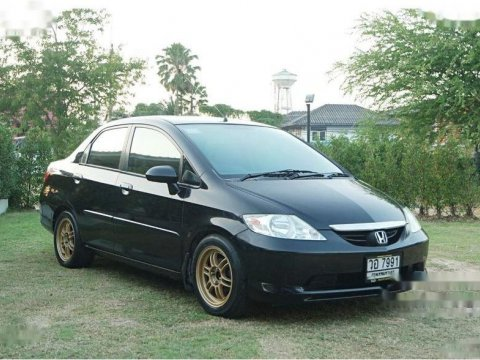sedan: (34, 112, 431, 318)
